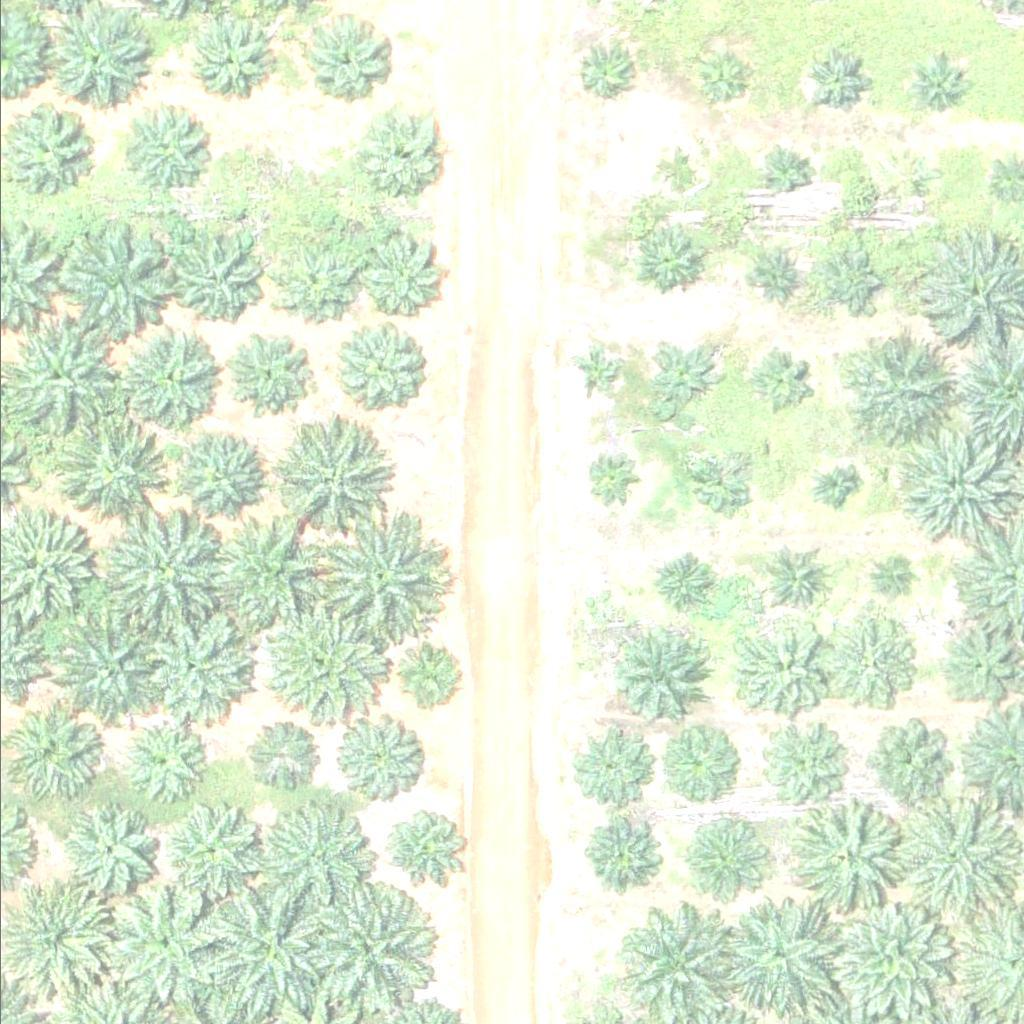Kelapa_Sawit: (304, 885, 430, 1010), (309, 515, 435, 640), (211, 889, 336, 1014), (266, 615, 380, 728), (53, 411, 167, 524), (110, 890, 223, 1003), (262, 804, 375, 917), (204, 518, 317, 631), (103, 509, 216, 622), (625, 906, 738, 1019), (793, 796, 906, 909), (901, 424, 1014, 537), (844, 328, 957, 441), (56, 222, 170, 334), (52, 615, 165, 727), (139, 610, 252, 722), (840, 901, 953, 1013), (725, 897, 838, 1009), (903, 799, 1016, 911), (173, 433, 274, 533), (329, 317, 430, 417), (109, 93, 210, 193), (606, 622, 707, 722), (276, 428, 376, 528), (120, 330, 220, 430), (167, 226, 267, 326), (329, 712, 418, 800), (172, 803, 260, 891), (118, 713, 206, 801), (226, 324, 314, 412), (357, 106, 445, 194), (186, 9, 274, 97), (828, 617, 916, 705), (734, 625, 822, 713), (376, 804, 464, 891), (68, 805, 156, 892), (271, 244, 359, 331), (354, 232, 442, 319), (297, 19, 385, 106), (681, 811, 769, 898), (870, 725, 946, 800), (237, 714, 313, 789), (577, 819, 653, 894), (755, 727, 831, 802), (573, 730, 649, 805), (937, 623, 1013, 698), (630, 222, 705, 297), (648, 338, 723, 413), (909, 50, 972, 113), (804, 50, 867, 113), (663, 727, 726, 790), (572, 43, 635, 106), (645, 551, 708, 614), (398, 648, 461, 711), (690, 446, 753, 509), (690, 43, 753, 106), (817, 250, 880, 312), (748, 354, 811, 416), (580, 452, 631, 502), (751, 256, 802, 306), (571, 345, 622, 395), (894, 153, 945, 203), (765, 143, 816, 193), (773, 554, 823, 604), (650, 147, 700, 197), (874, 562, 912, 600), (812, 467, 850, 504)
